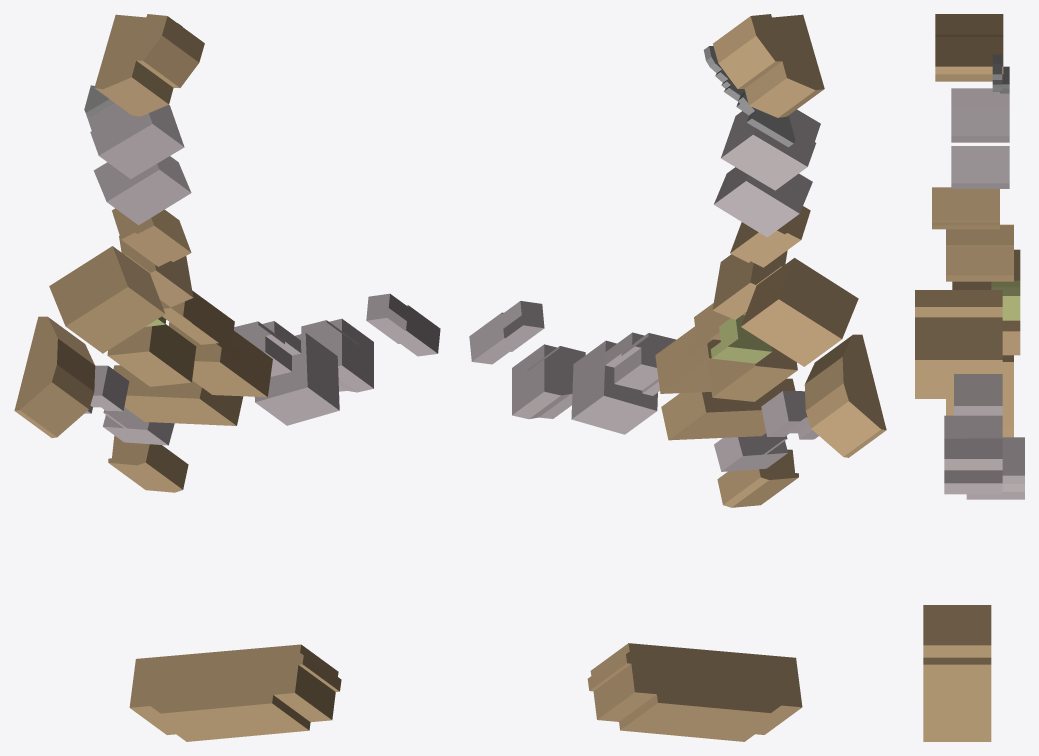
The picture shows the model from 3 angles, left to right: view 1: azimuth 30°, elevation 25°; view 2: azimuth 150°, elevation 25°; view 3: azimuth 270°, elevation 25°; orthographic projection. The views are drawn at different scales.
Visible parts, largest first — view 1: 0_3_0_1_1_1_0; view 2: 0_3_0_1_1_1_0; view 3: 0_3_0_1_1_1_0.
Boxes of the visible parts, x1,y1,x2,y2 form: 0_3_0_1_1_1_0: [14, 14, 440, 741]; 0_3_0_1_1_1_0: [469, 14, 886, 741]; 0_3_0_1_1_1_0: [915, 14, 1024, 741].
Size of the model in its own units: 125 by 223 by 33.9.
